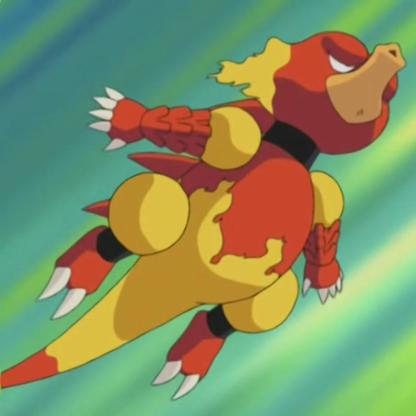Magmar: (54, 25, 381, 409)
